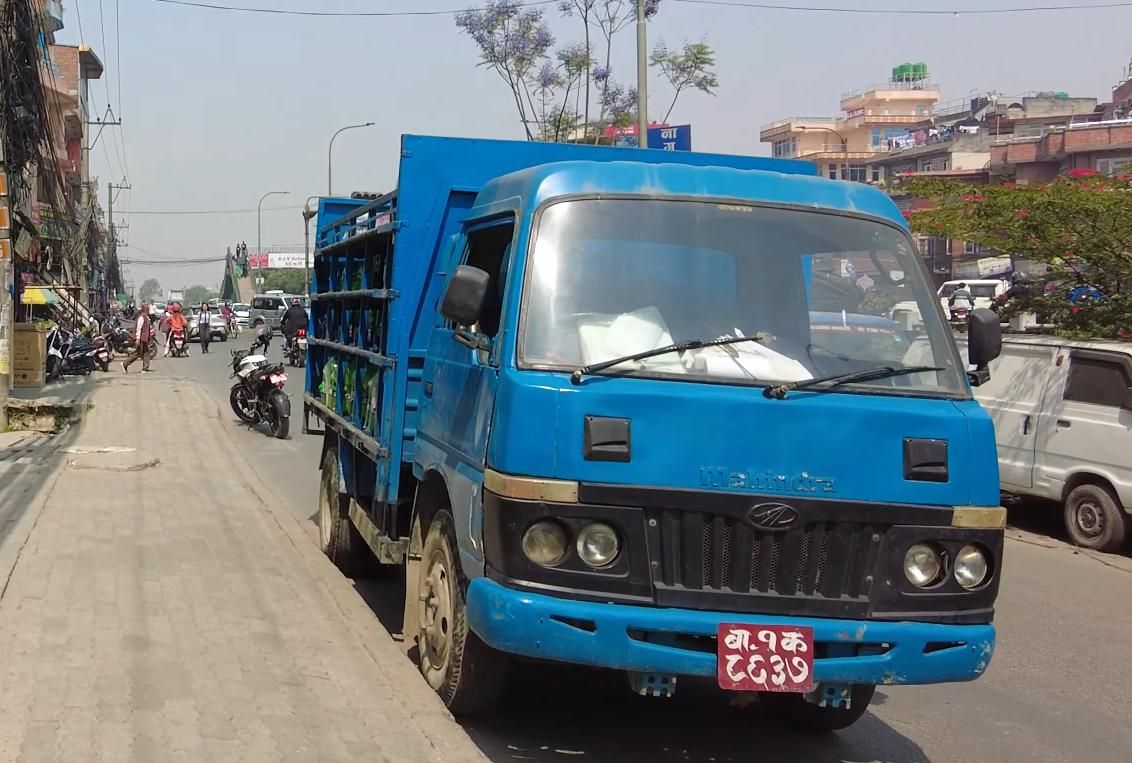bike: (220, 335, 302, 451), (271, 296, 319, 368)
mini_truck: (319, 120, 1007, 763)
scooter: (162, 287, 192, 365)
